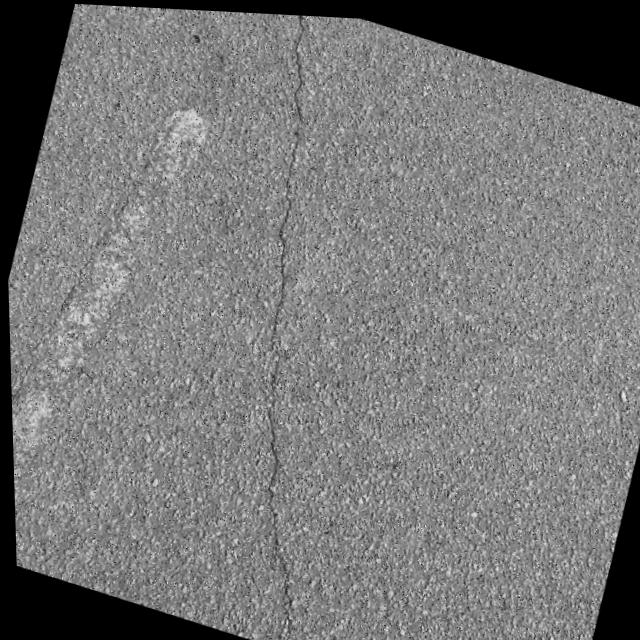Crack: (121, 5, 454, 640)
